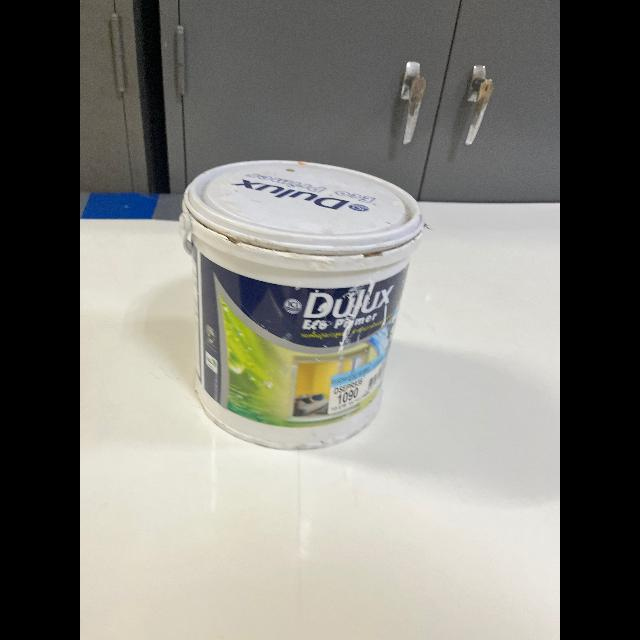paint_bucket: (166, 150, 437, 458)
